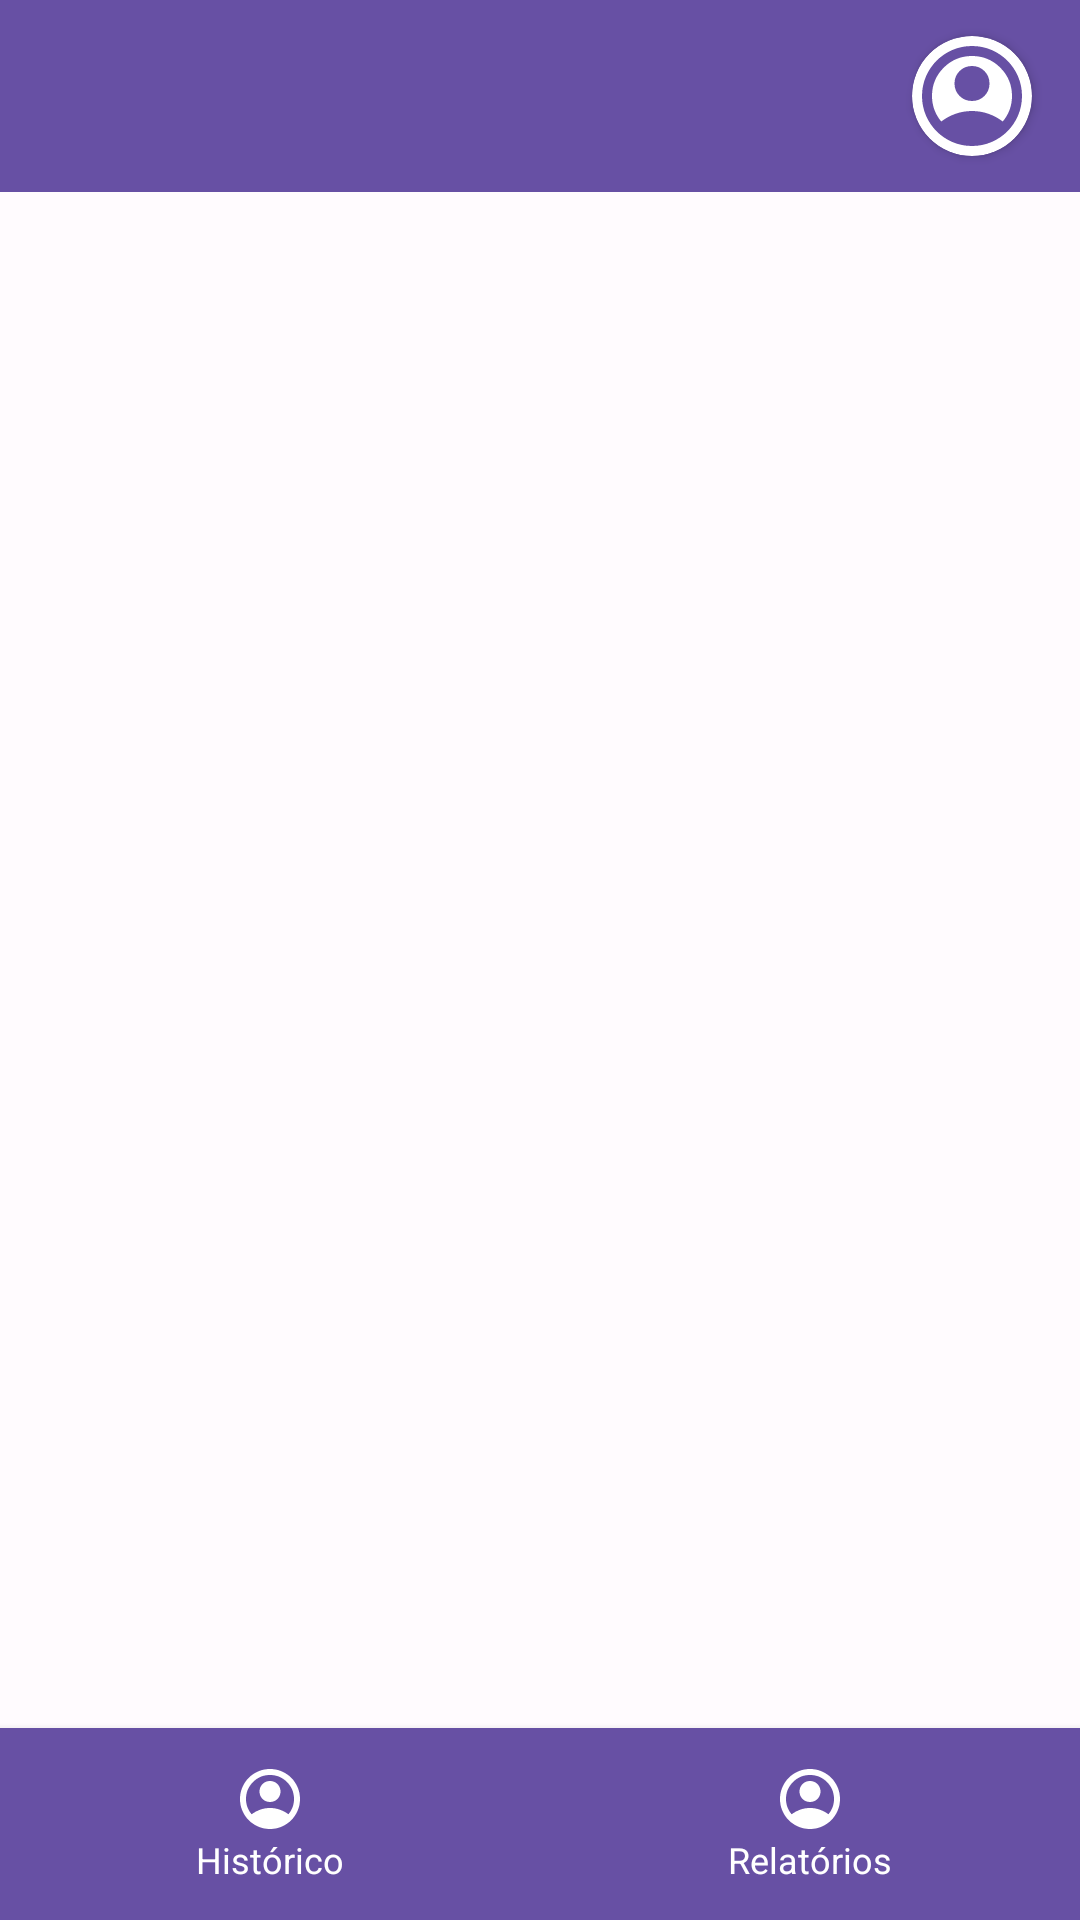

Locate icon controls on the screen. Image size 1080w x 1920h, boxes as (x1, y1, x2, y2).
Foto do perfil: (912, 36, 1032, 156)
